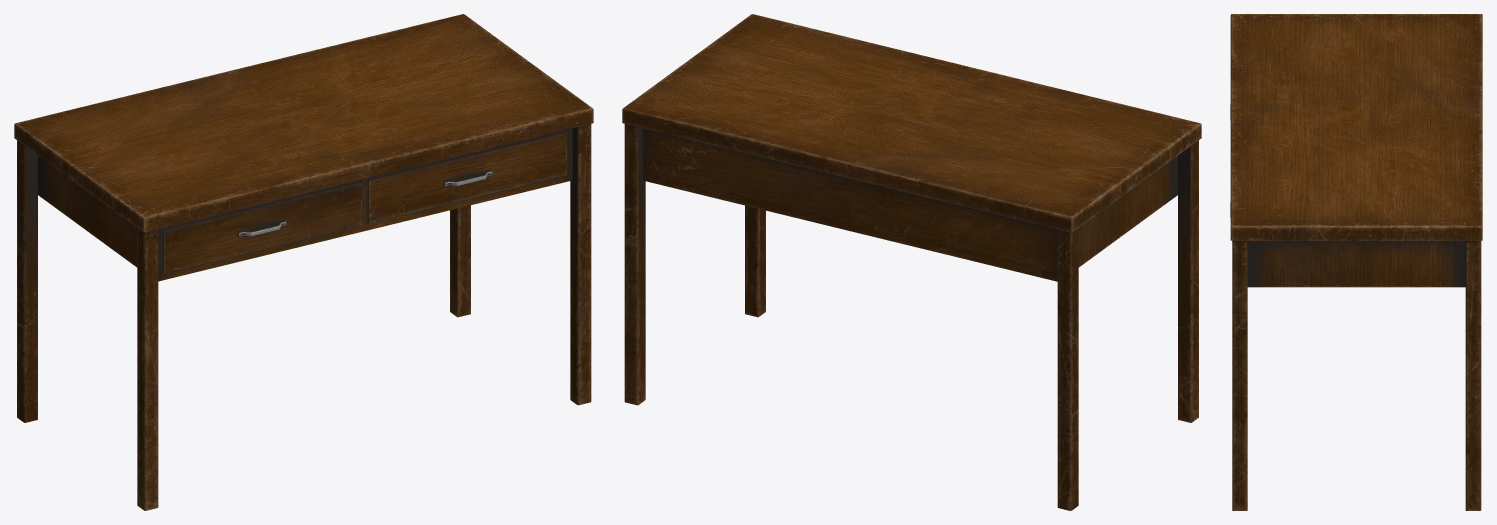
File: desk_wooden_shahsavan.glb
3 renders of one model, left to right at view 1: azimuth 30°, elevation 25°; view 2: azimuth 150°, elevation 25°; view 3: azimuth 270°, elevation 25°, orthographic. The views are drawn at different scales.
Visible parts, largest first — view 1: Main_136m_0_1__0; view 2: Main_136m_0_1__0; view 3: Main_136m_0_1__0.
Boxes of the visible parts, x1,y1,x2,y2 form: Main_136m_0_1__0: [14, 14, 593, 510]; Main_136m_0_1__0: [622, 14, 1201, 510]; Main_136m_0_1__0: [1230, 14, 1482, 510].
Bounding box in the file's own units: 1.28 × 0.7987 × 0.641.
Materials: 1 (1 with a texture image).
